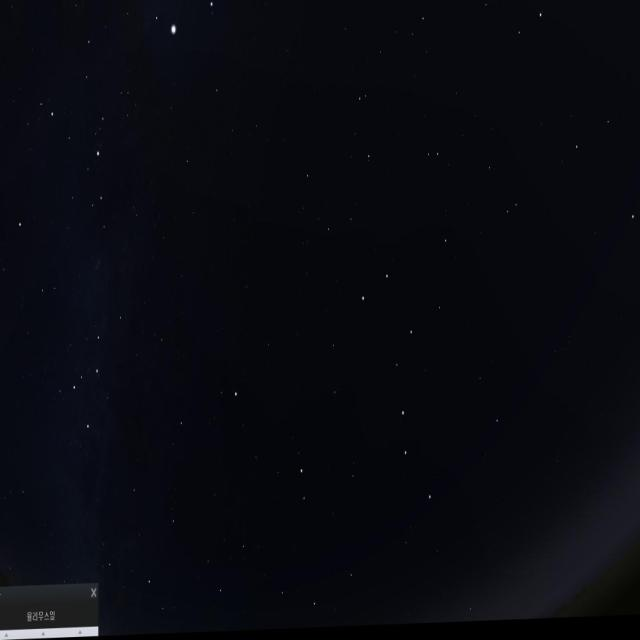cassiopeia: (56, 291, 134, 441)
ursa_major: (358, 260, 439, 517)
